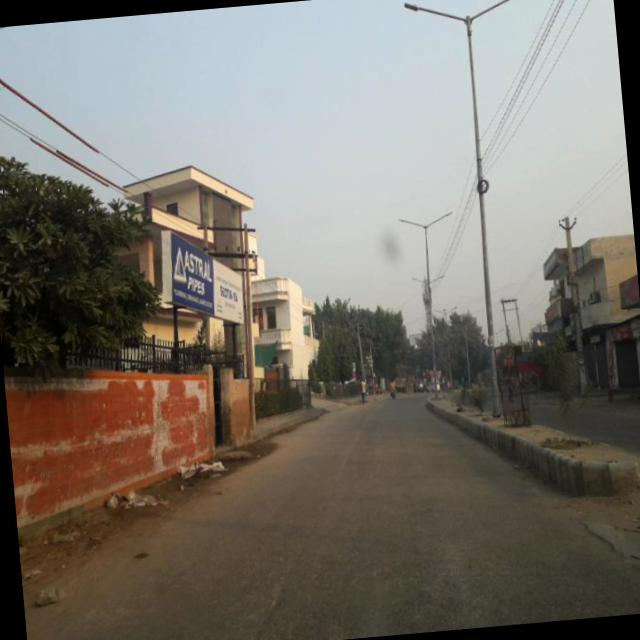crack: (575, 506, 640, 610)
